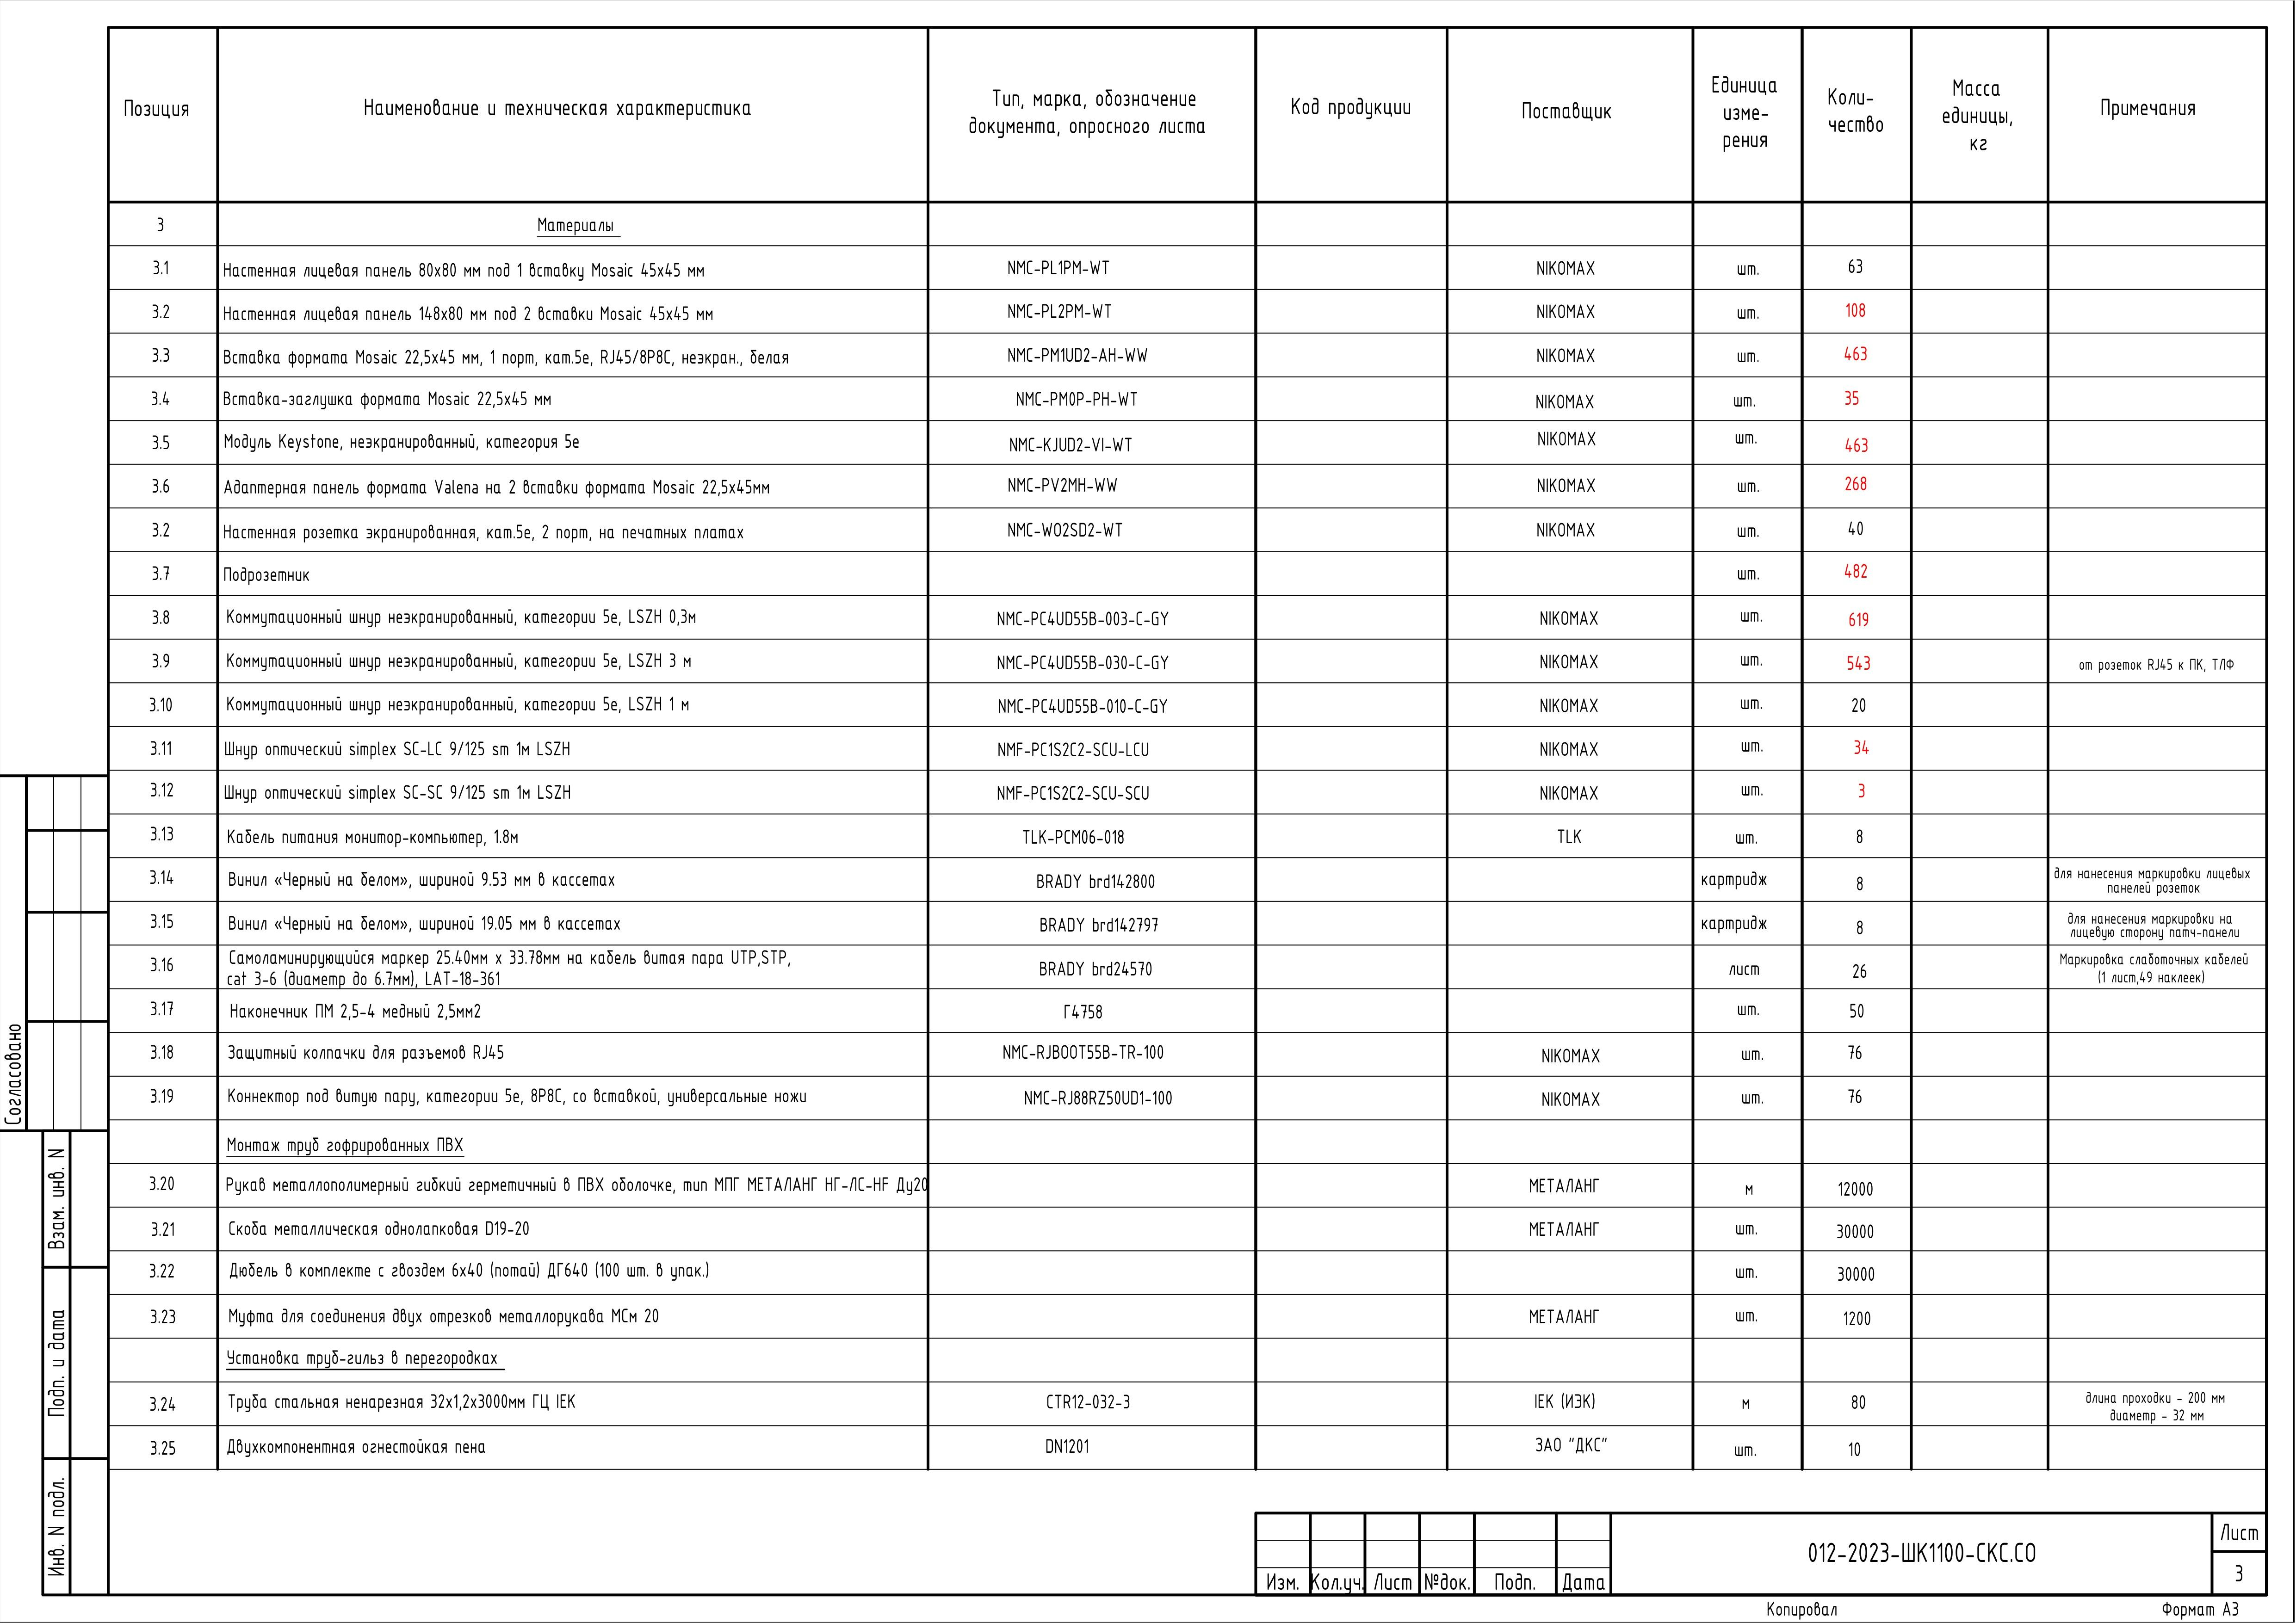Name of costs: (216, 200, 929, 1467)
Note: (931, 202, 1254, 1467)
Quantity: (1802, 200, 1913, 1470)
Unit of measurement: (1695, 202, 1804, 1468)
